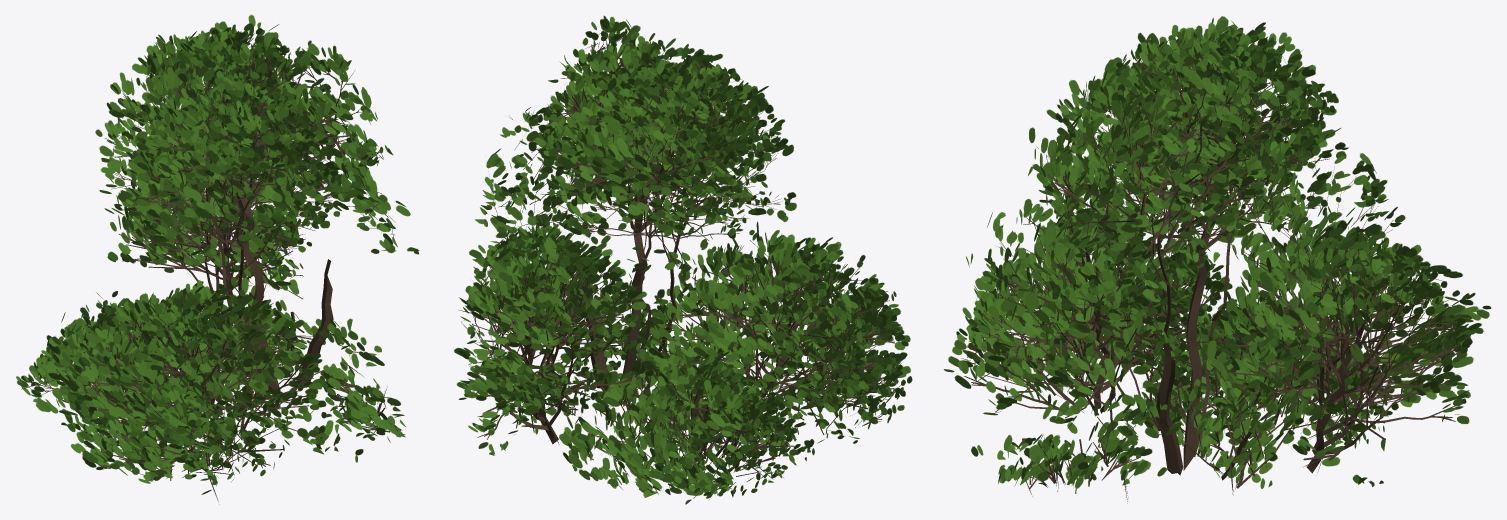
3 views of the same model, side by side, from view 1: azimuth 30°, elevation 25°; view 2: azimuth 150°, elevation 25°; view 3: azimuth 270°, elevation 25° (orthographic). The views are drawn at different scales.
Parts seen in each view (by area): view 1: oak 01.001_trunk_Mat.001_0.283; view 2: oak 01.001_trunk_Mat.001_0.283; view 3: oak 01.001_trunk_Mat.001_0.283.
Part boxes in pixels (<box>): oak 01.001_trunk_Mat.001_0.283: <box>16,14,419,504</box>; oak 01.001_trunk_Mat.001_0.283: <box>454,15,912,504</box>; oak 01.001_trunk_Mat.001_0.283: <box>943,16,1491,503</box>.
Size of the model in its own units: 4.28 by 5.05 by 5.81.
2 materials, 1 textured.
